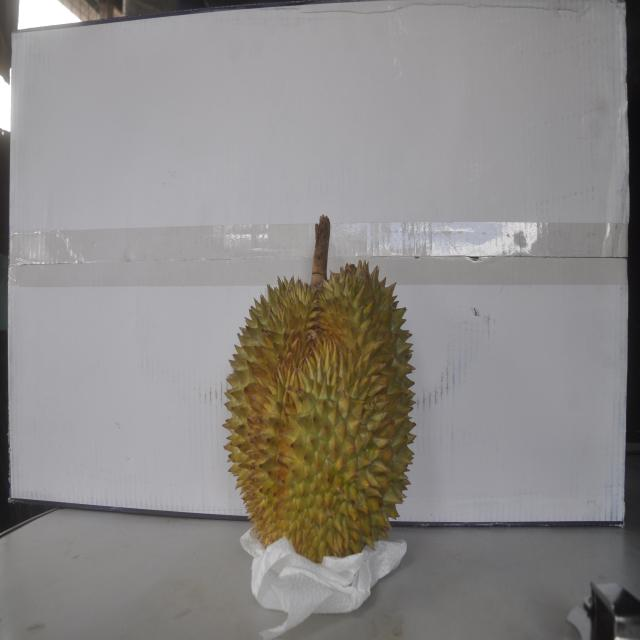mature: (223, 225, 418, 562)
